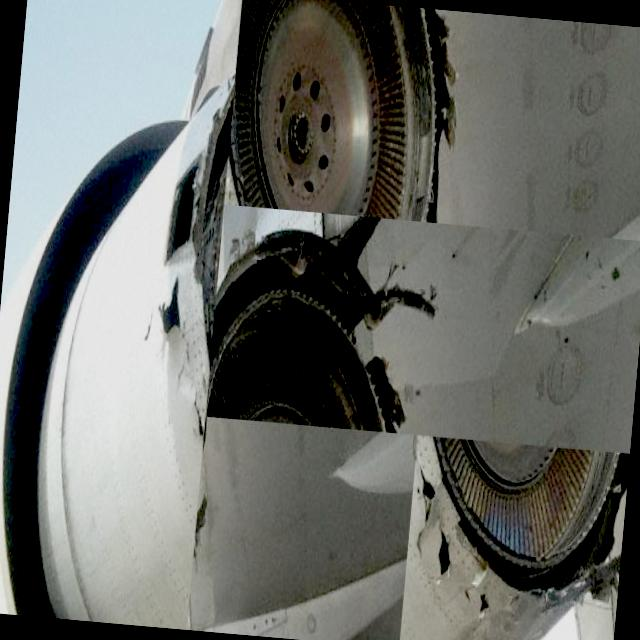crack: (138, 270, 218, 450), (187, 492, 214, 574)
